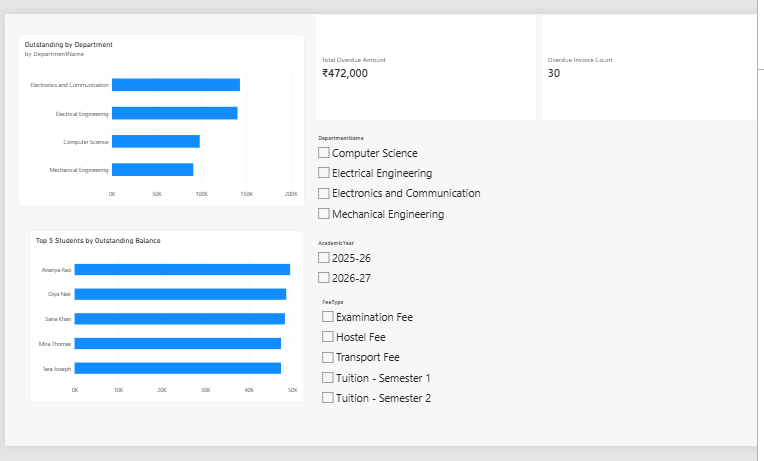

Layout of this report page (visuals, bound fields, positions):
{"tool":"powerbi","page":{"name":"Outstanding Analysis","canvas":[1920,1080],"ordinal":2},"visuals":[{"type":"clusteredBarChart","fields":{"Category":["Departments.DepartmentName"],"Y":["Departments.Outstanding Amount Numeric"]},"box":[32.8,50.4,715.6,430.9],"z":0},{"type":"clusteredBarChart","title":"Top 5 Students by Outstanding Balance","fields":{"Category":["Students.StudentName"],"Y":["Departments.Outstanding Amount Numeric"]},"box":[60.5,539.2,687.9,430.9],"z":1},{"type":"slicer","fields":{"Values":["Departments.DepartmentName"]},"box":[776.1,302.4,667.7,236.9],"z":2},{"type":"slicer","fields":{"Values":["Invoices.AcademicYear"]},"box":[776.1,564.4,645,148.7],"z":3},{"type":"slicer","fields":{"Values":["Invoices.FeeType"]},"box":[786.1,713.1,657.6,299.8],"z":4},{"type":"cardVisual","fields":{"Data":["Departments.Total Overdue Amount"]},"box":[776.1,0,554.3,267.1],"z":5},{"type":"cardVisual","fields":{"Data":["Departments.Overdue Invoice Count"]},"box":[1340,0,554,267],"z":6}]}

Visuals, with their boxes on the page's 1920x1080 design canvas (x1, y1, x2, y2). These are canvas units, not pixel positions in the 764x461 screenshot, which may show the page scaled, cropped or inside an application window:
clusteredBarChart - Departments.DepartmentName x Departments.Outstanding Amount Numeric: (left=33, top=50, right=748, bottom=481)
"Top 5 Students by Outstanding Balance" clusteredBarChart: (left=60, top=539, right=748, bottom=970)
slicer - Departments.DepartmentName: (left=776, top=302, right=1444, bottom=539)
slicer - Invoices.AcademicYear: (left=776, top=564, right=1421, bottom=713)
slicer - Invoices.FeeType: (left=786, top=713, right=1444, bottom=1013)
cardVisual - Departments.Total Overdue Amount: (left=776, top=0, right=1330, bottom=267)
cardVisual - Departments.Overdue Invoice Count: (left=1340, top=0, right=1894, bottom=267)
